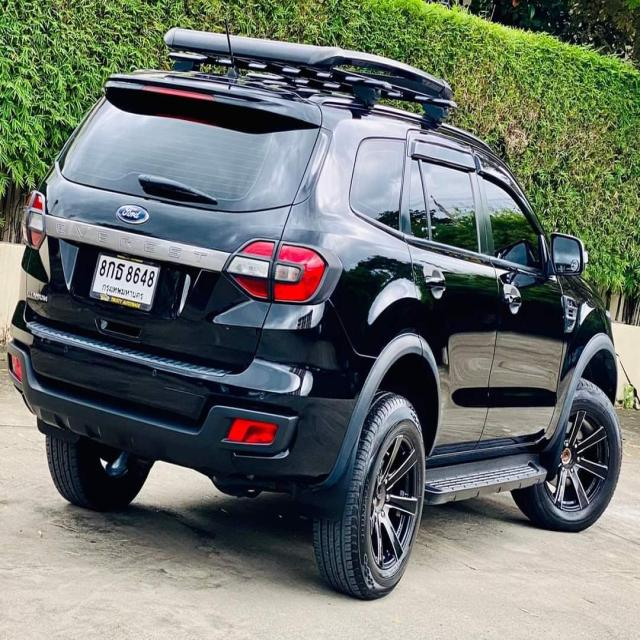license_plate: (88, 249, 162, 312)
